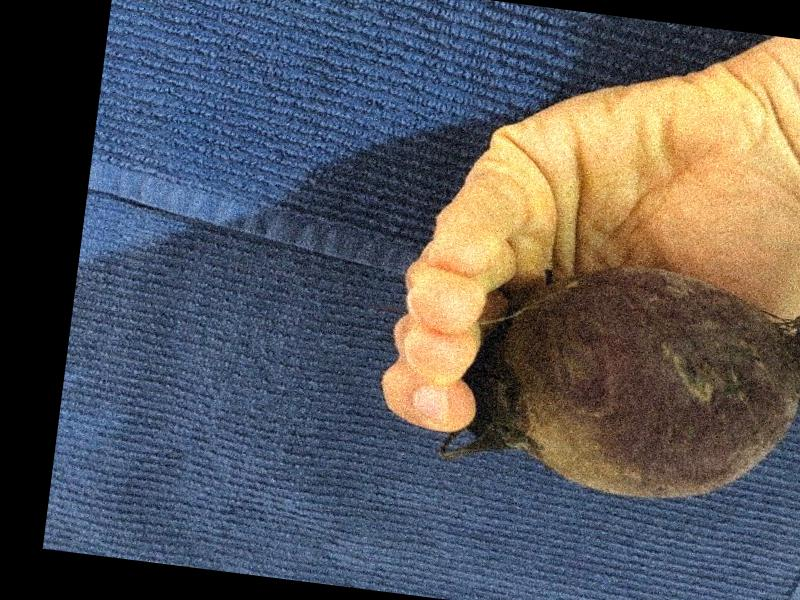Beet: (432, 242, 800, 522)
